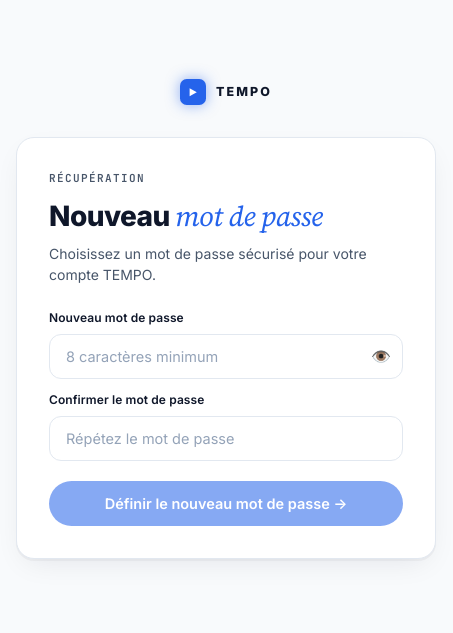
Test case: ResetPassword › Validation — confirmation › affiche une erreur si les mots de passe ne correspondent pas
The width and height of the screenshot is (453, 633).
In the password field labelled "Nouveau mot de passe": [226, 356] box top-left (49, 334), bottom-right (403, 379), type "Secure1234!"
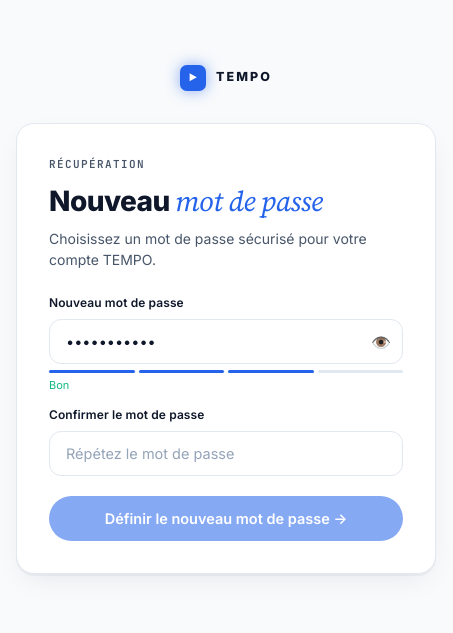
In the password field labelled "Confirmer le mot de passe": [226, 453] box top-left (49, 430), bottom-right (403, 476), type "DifferentPass1!"
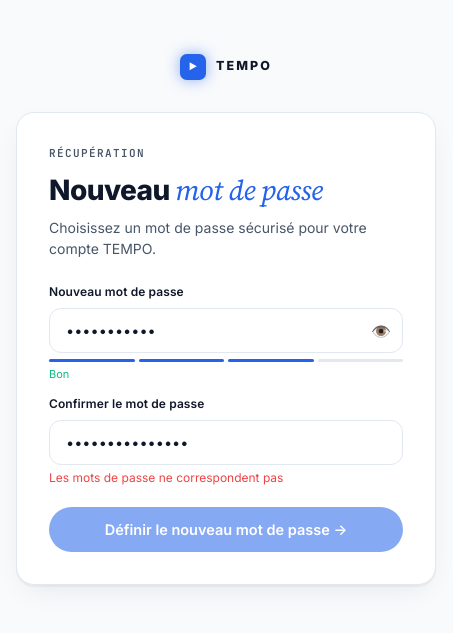
Submit the form, box top-left (49, 283), bottom-right (403, 552)
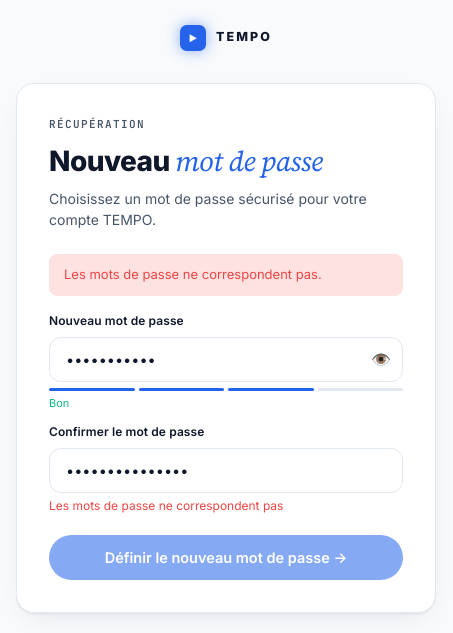
expect the text "Les mots de passe ne correspondent pas." is shown: met, box top-left (49, 254), bottom-right (403, 296)
